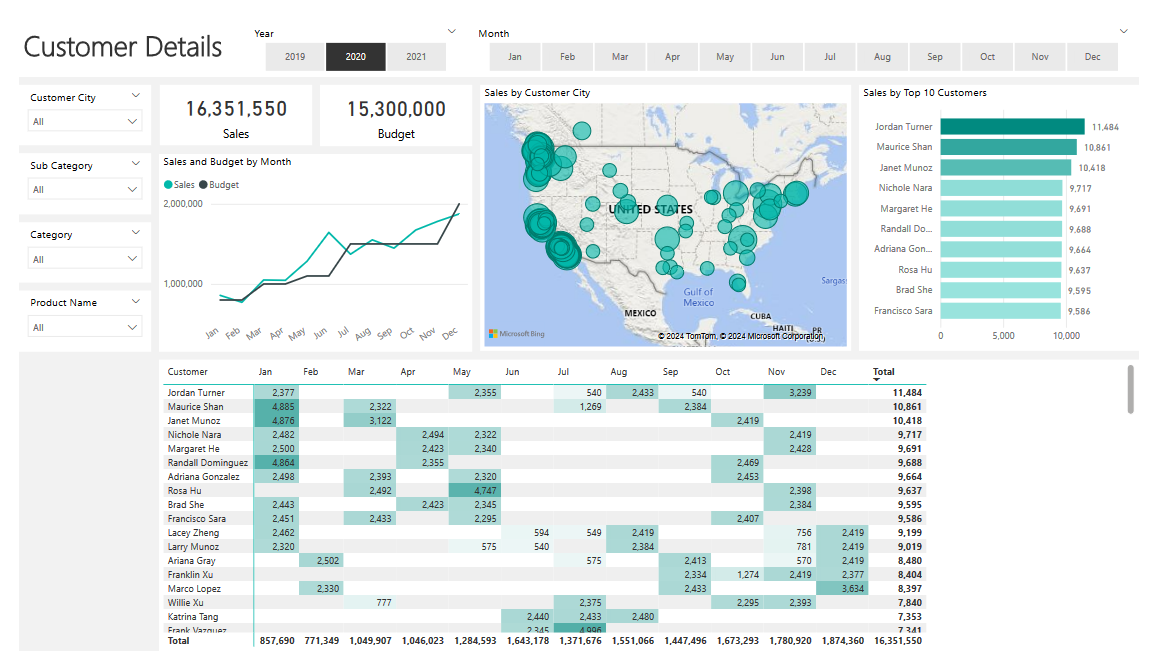

The dashboard page shown, as its layout file describes it:
{"tool":"powerbi","page":{"name":"Customer Details","canvas":[1280,720],"ordinal":1},"visuals":[{"type":"textbox","box":[0,0,1280,64],"z":0},{"type":"slicer","fields":{"Values":["DIM_Calendar.Year"]},"box":[256,0,256,64],"z":1000},{"type":"slicer","fields":{"Values":["DIM_Calendar.MonthShort"]},"box":[512,0,768,64],"z":2000},{"type":"slicer","fields":{"Values":["DIM_Customers.Customer City"]},"box":[0,73,150.5,69.3],"z":3000},{"type":"slicer","fields":{"Values":["DIM_Products.Product Category"]},"box":[0,229.9,150.5,69.3],"z":4000},{"type":"slicer","fields":{"Values":["DIM_Products.Product Name"]},"box":[0,308.4,150.5,69.3],"z":5000},{"type":"slicer","fields":{"Values":["DIM_Products.Sub Category"]},"box":[0,151.4,150.5,69.3],"z":6000},{"type":"lineChart","fields":{"Category":["DIM_Calendar.MonthShort"],"Y":["Analysis Metrics.Sales","Analysis Metrics.Budget"]},"box":[159.8,151.8,358.7,226.4],"z":7000},{"type":"card","fields":{"Values":["Analysis Metrics.Sales"]},"box":[160.7,72.8,174,69.2],"z":8000},{"type":"map","fields":{"Category":["DIM_Customers.Customer City"],"Size":["Analysis Metrics.Sales"]},"box":[527.3,72.8,423.5,304.5],"z":9000},{"type":"card","fields":{"Values":["Analysis Metrics.Budget"]},"box":[343.6,72.8,174.9,70.1],"z":10000},{"type":"pivotTable","fields":{"Rows":["DIM_Customers.Full Name"],"Columns":["DIM_Calendar.MonthShort"],"Values":["Analysis Metrics.Sales"]},"box":[159.8,387.1,1120.4,332.9],"z":11000},{"type":"barChart","title":"Sales by Top 10 Customers","fields":{"Category":["DIM_Customers.Full Name"],"Y":["Analysis Metrics.Sales"]},"box":[959.7,72.8,320.5,304.5],"z":12000}]}

Visuals, with their boxes in screenshot pixels (x1, y1, x2, y2), scaled from the page's 1280x720 canvas onto the 1160x668 screenshot:
textbox: rect(0, 0, 1159, 59)
slicer - DIM_Calendar.Year: rect(232, 0, 464, 59)
slicer - DIM_Calendar.MonthShort: rect(464, 0, 1159, 59)
slicer - DIM_Customers.Customer City: rect(0, 68, 136, 132)
slicer - DIM_Products.Product Category: rect(0, 213, 136, 278)
slicer - DIM_Products.Product Name: rect(0, 286, 136, 350)
slicer - DIM_Products.Sub Category: rect(0, 140, 136, 205)
lineChart - DIM_Calendar.MonthShort x Analysis Metrics.Sales: rect(145, 141, 470, 351)
card - Analysis Metrics.Sales: rect(146, 68, 303, 132)
map - DIM_Customers.Customer City x Analysis Metrics.Sales: rect(478, 68, 862, 350)
card - Analysis Metrics.Budget: rect(311, 68, 470, 133)
pivotTable - DIM_Customers.Full Name x DIM_Calendar.MonthShort: rect(145, 359, 1159, 667)
"Sales by Top 10 Customers" barChart: rect(870, 68, 1159, 350)
